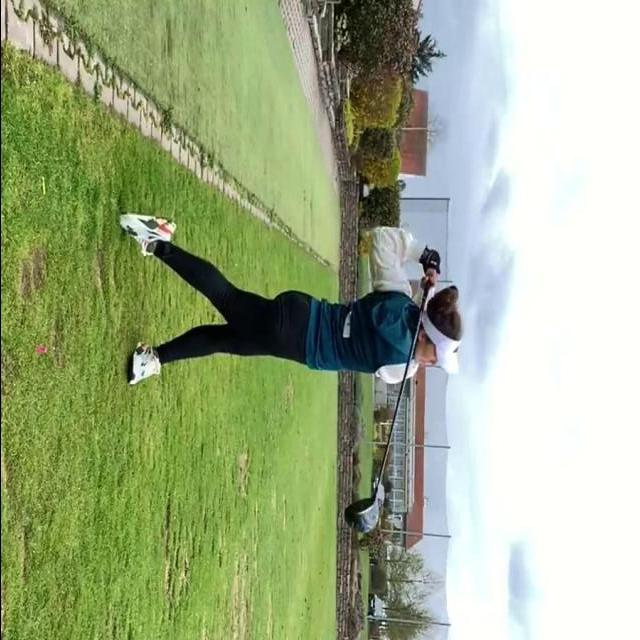ClubHandle: (343, 280, 431, 534)
ClubHead: (343, 499, 377, 534)
